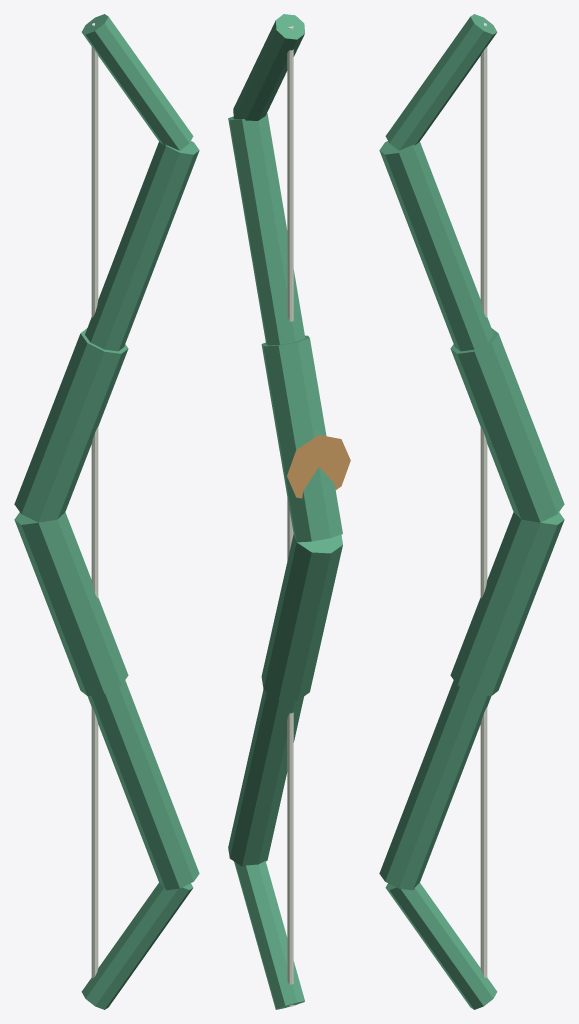
3 views of the same model, side by side, from view 1: azimuth 90°, elevation 25°; view 2: azimuth 210°, elevation 25°; view 3: azimuth 270°, elevation 25° (orthographic).
Visible parts, largest first — view 1: verdant-bow; view 2: verdant-bow; view 3: verdant-bow.
Part boxes in pixels (x1,y1,x2,y2): verdant-bow: (14, 14, 199, 1009); verdant-bow: (228, 14, 350, 1009); verdant-bow: (379, 14, 564, 1009).
Bounding box in the file's own units: 0.078 × 1.16 × 0.1963.
